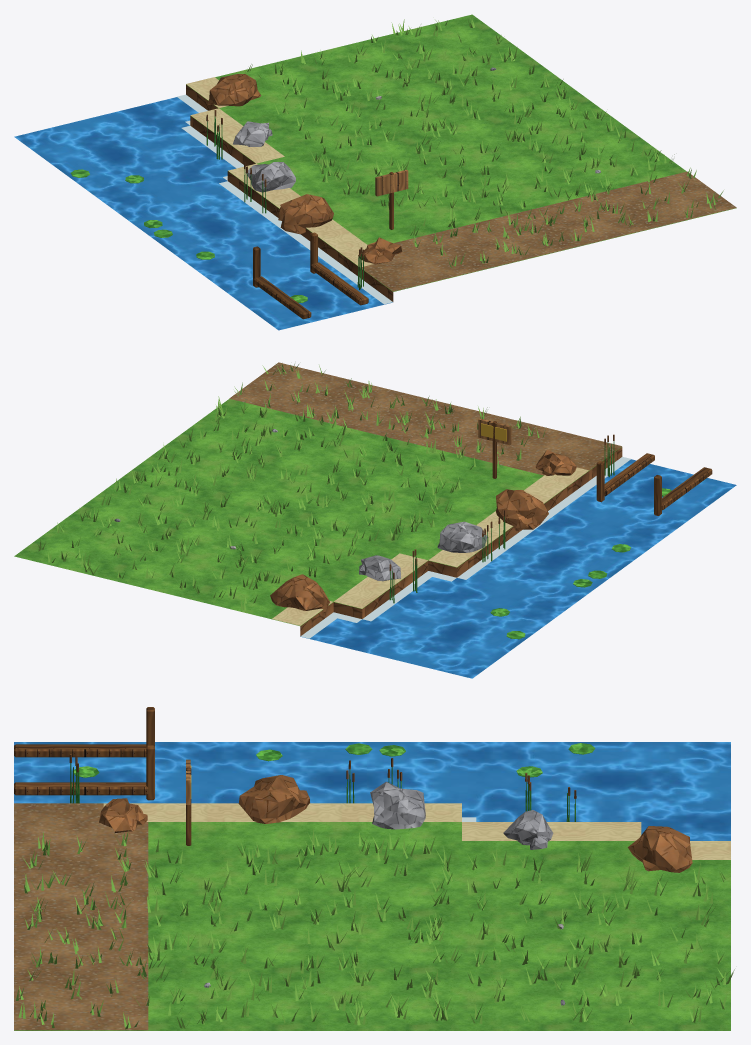
File: chunk_4_11.glb
The picture shows the model from 3 angles, top to bottom: view 1: azimuth 30°, elevation 25°; view 2: azimuth 150°, elevation 25°; view 3: azimuth 270°, elevation 25°; orthographic projection. The views are drawn at different scales.
Parts seen in each view (by area): view 1: chunk_4_11; view 2: chunk_4_11; view 3: chunk_4_11.
Part boxes in pixels (bbox=[...]): chunk_4_11: bbox=[14, 14, 736, 330]; chunk_4_11: bbox=[14, 362, 736, 678]; chunk_4_11: bbox=[14, 707, 734, 1030].
Size of the model in its own units: 16.1 by 2.45 by 16.13.
Materials: 17 (14 with a texture image).
